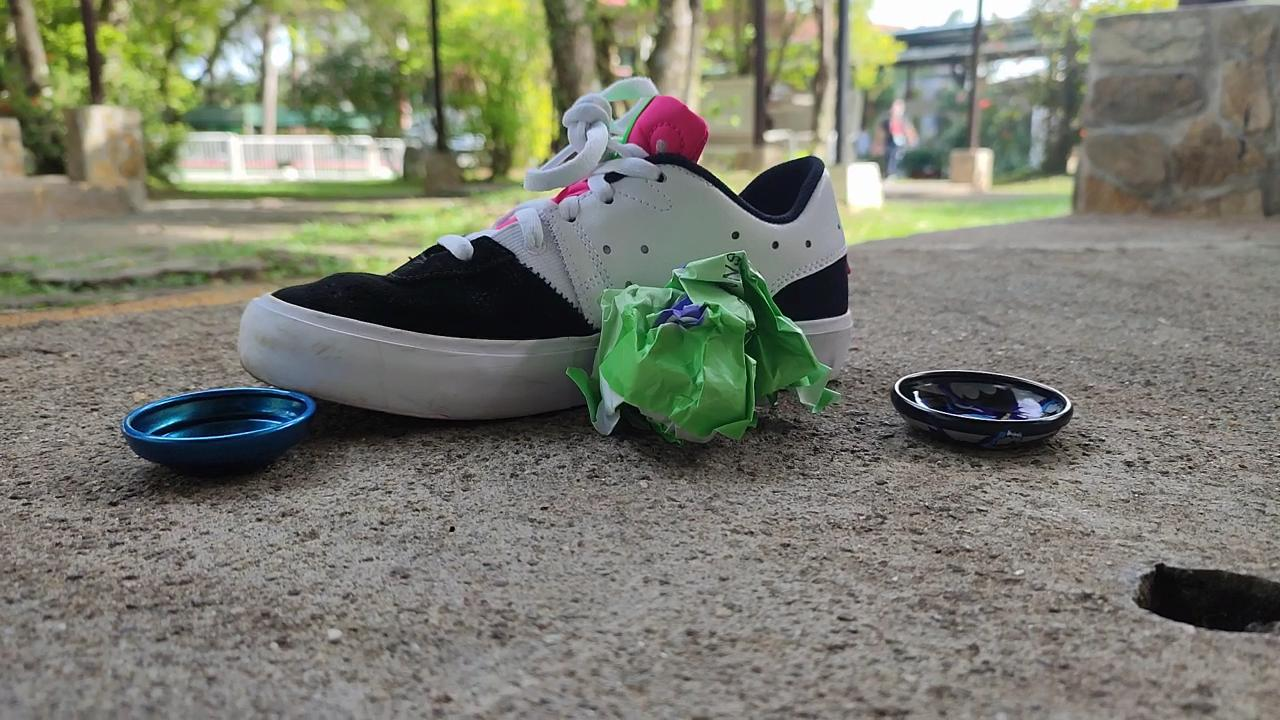Paper: (576, 245, 846, 452)
